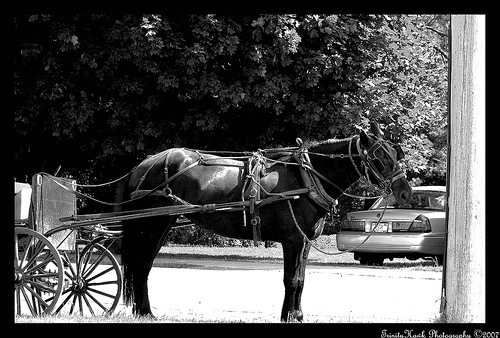horse: (111, 121, 415, 338)
